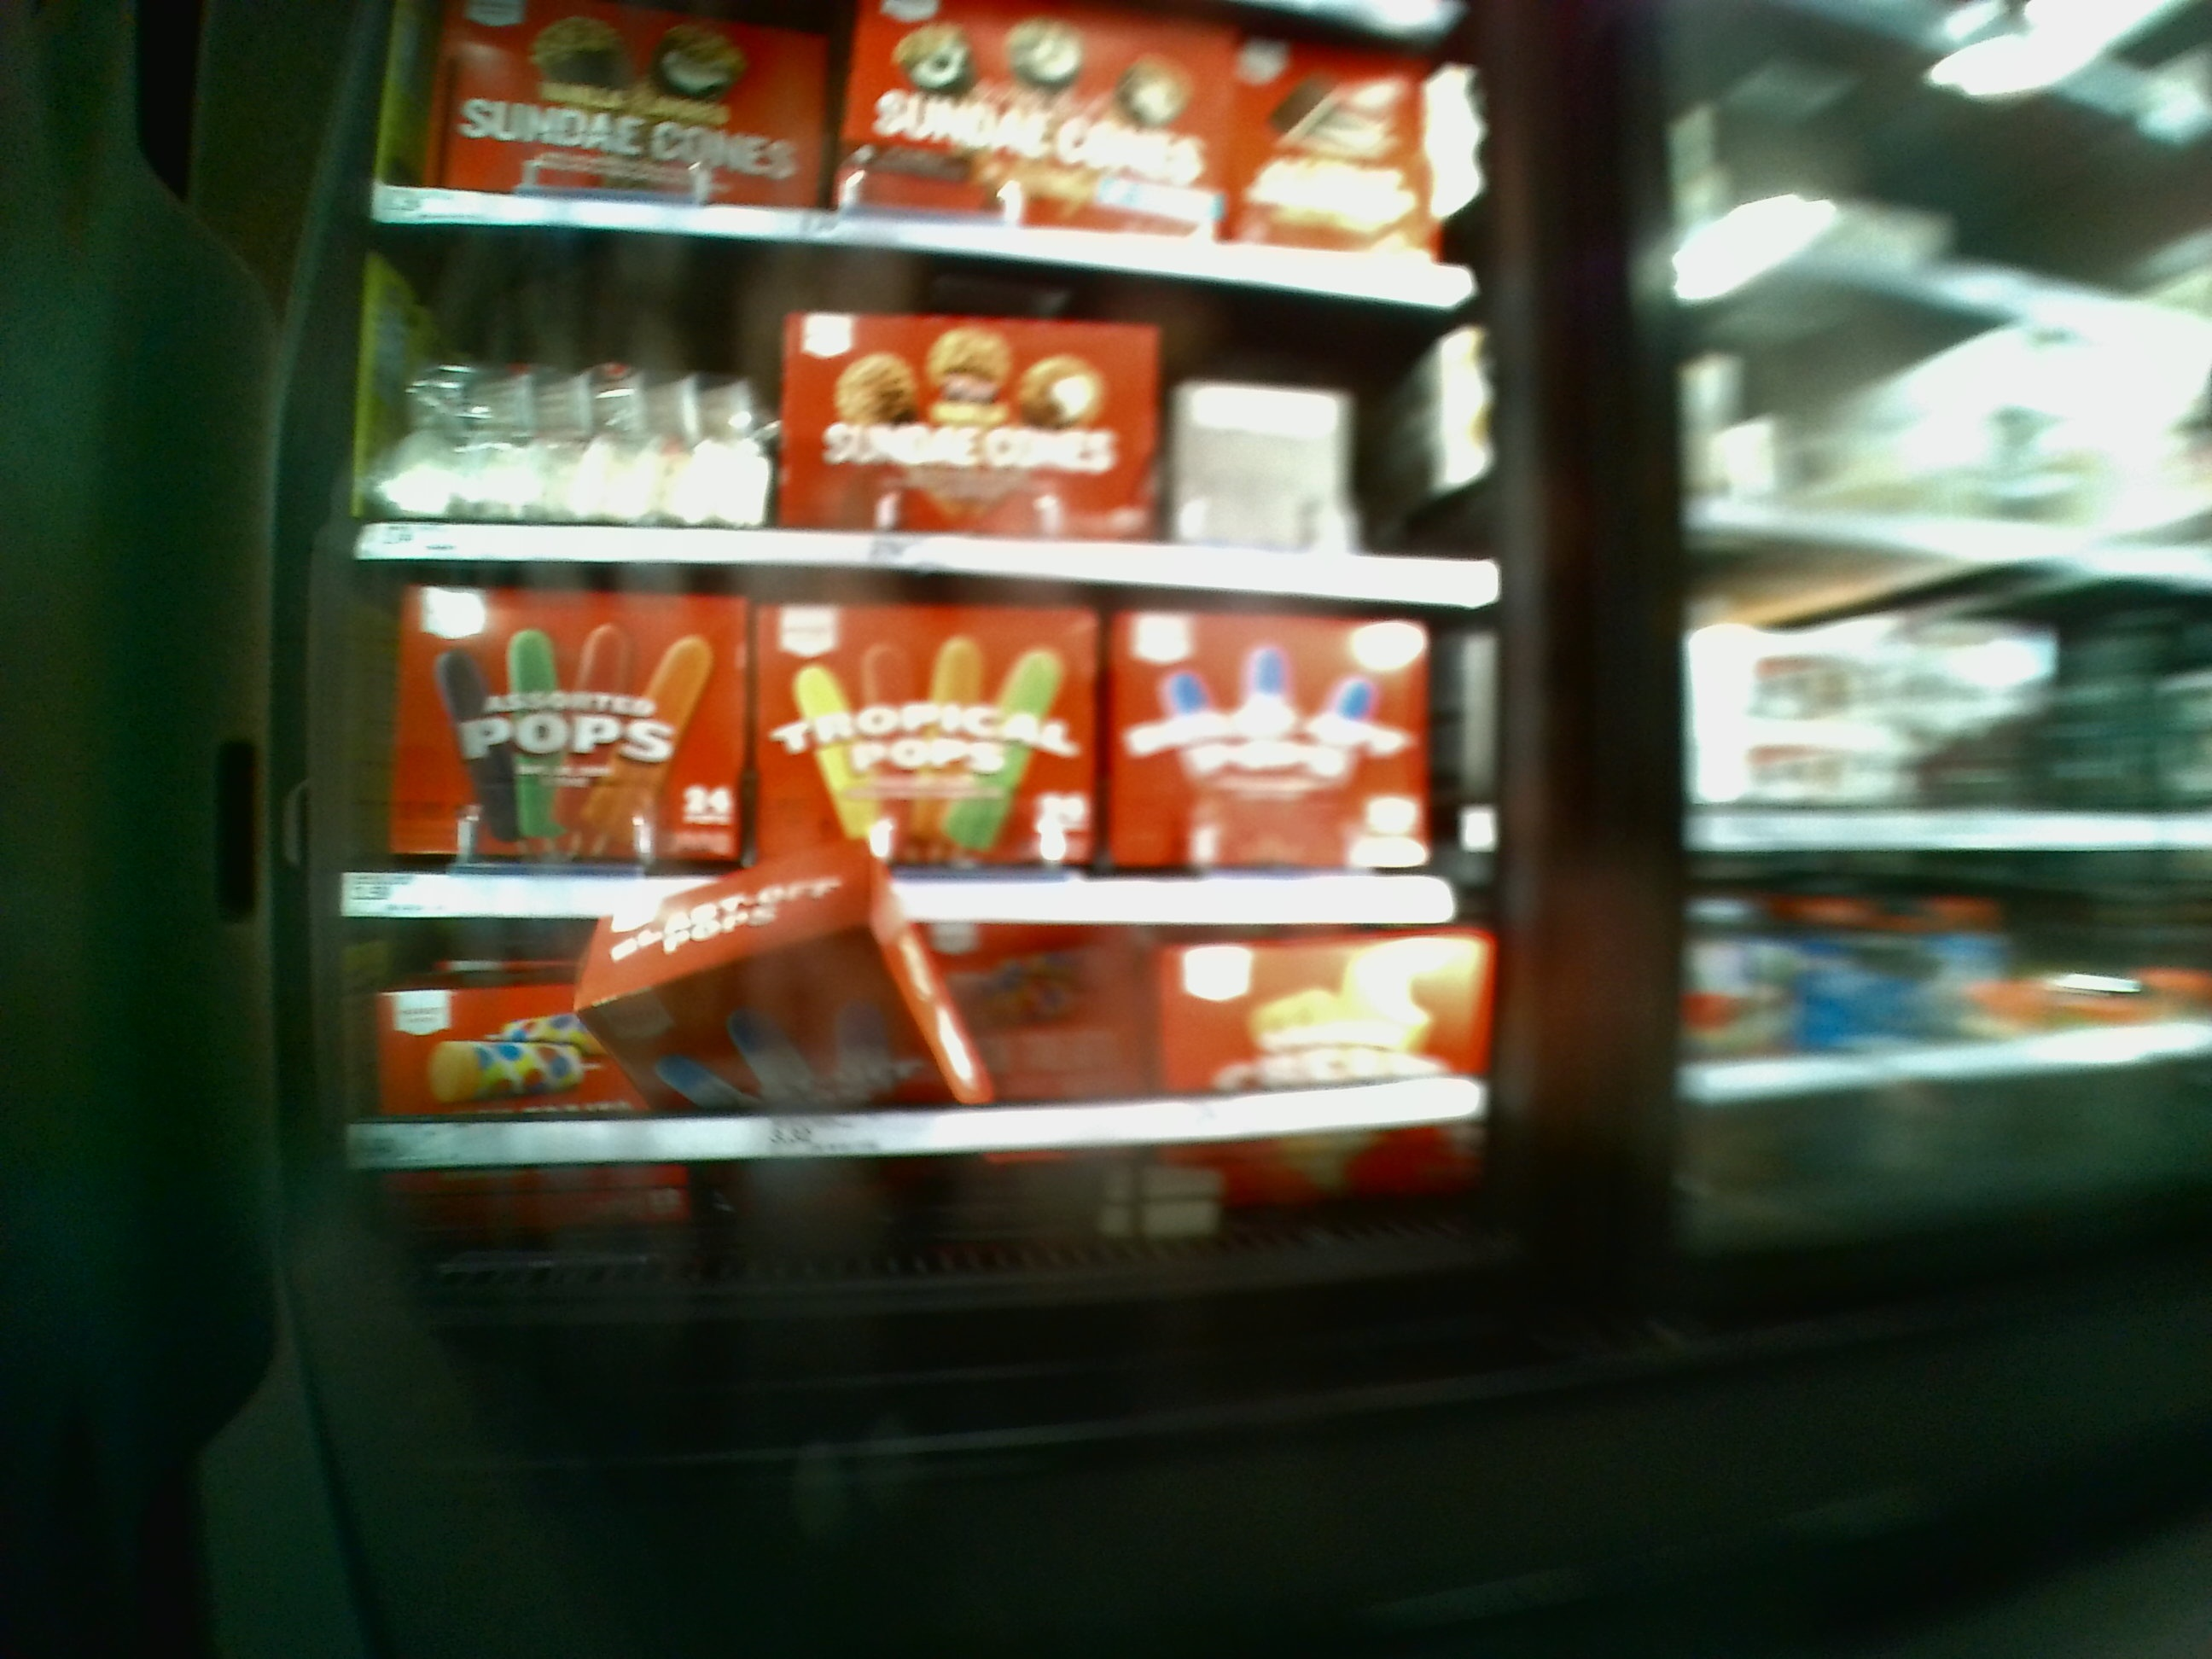shelf: (366, 232, 1484, 603), (343, 570, 1484, 932), (371, 922, 1482, 1249)
